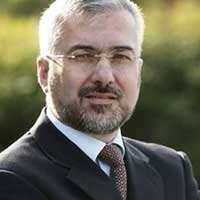middle_eastern_male: (50, 2, 140, 135)
